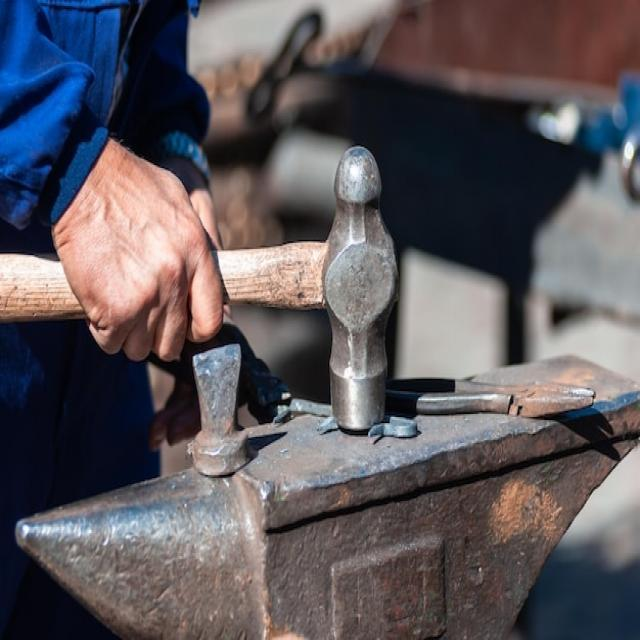hammer: (0, 137, 409, 456)
